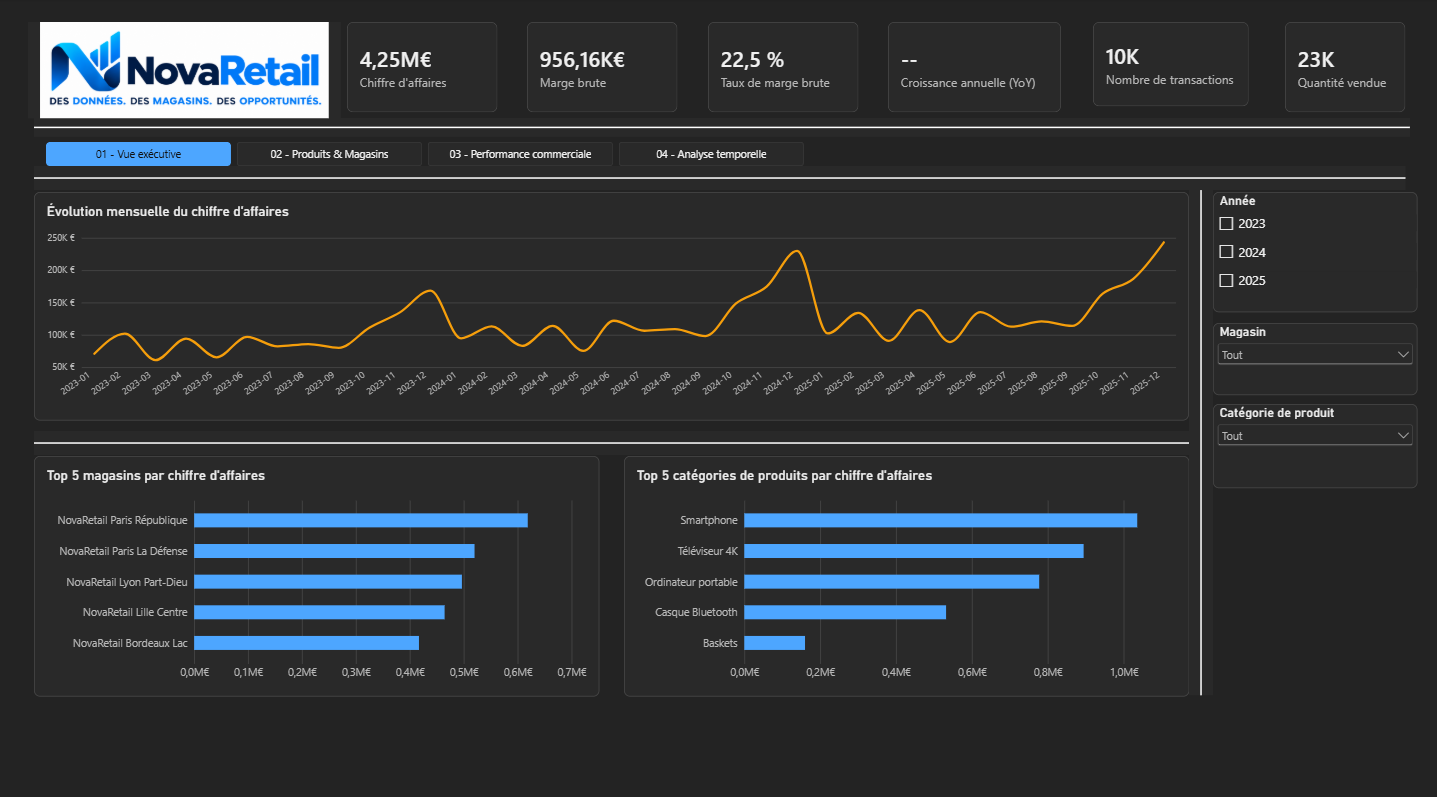

This screenshot's page, from the dashboard's own definition file:
{"tool":"powerbi","page":{"name":"01 - Vue exécutive","canvas":[1920,1080],"ordinal":0},"visuals":[{"type":"cardVisual","fields":{"Data":["_Mesures.Chiffre d'affaires"]},"box":[464,32,200,120],"z":0},{"type":"cardVisual","fields":{"Data":["_Mesures.Marge brute"]},"box":[704,32,200,120],"z":1000},{"type":"cardVisual","fields":{"Data":["_Mesures.Taux de marge brute"]},"box":[944,32,200,120],"z":2000},{"type":"cardVisual","fields":{"Data":["_Mesures.Nombre de transactions"]},"box":[1456,32,208,112],"z":3000},{"type":"cardVisual","fields":{"Data":["_Mesures.Quantité vendue"]},"box":[1712,32,160,120],"z":4000},{"type":"lineChart","title":"Évolution mensuelle du chiffre d''affaires","fields":{"Category":["dim_date.Annee_Mois"],"Y":["_Mesures.Chiffre d'affaires"]},"box":[48,257.8,1536,304],"z":5000},{"type":"barChart","title":"Top 5 magasins par chiffre d''affaires","fields":{"Category":["dim_magasin.nom_magasin"],"Y":["_Mesures.Chiffre d'affaires"]},"box":[48,609.8,752,320],"z":6000},{"type":"barChart","title":"Top 5 catégories de produits par chiffre d''affaires","fields":{"Category":["dim_produit.type_produit"],"Y":["_Mesures.Chiffre d'affaires"]},"box":[832,609.8,752,320],"z":7000},{"type":"slicer","fields":{"Values":["dim_date.annee"]},"box":[1616,257.8,272,160],"z":8000},{"type":"slicer","fields":{"Values":["dim_magasin.nom_magasin"]},"box":[1616,432.5,272,96],"z":9000},{"type":"slicer","fields":{"Values":["dim_produit.type_produit"]},"box":[1616,540.5,272,112],"z":10000},{"type":"cardVisual","fields":{"Data":["_Mesures.Croissance YoY - KPI"]},"box":[1184,32,230,120],"z":11000},{"type":"shape","box":[48,160,1830,25],"z":12000},{"type":"shape","box":[48,576,1552,32],"z":13000},{"type":"shape","box":[1584,256,32,672],"z":14000},{"type":"shape","box":[48,224,1824,32],"z":15000},{"type":"pageNavigator","box":[64,192,1008,32],"z":16000},{"type":"image","box":[40,32,416,128],"z":17000}]}

Visuals, with their boxes in screenshot pixels (x1, y1, x2, y2), scaled from the page's 1920x1080 canvas onto the 1437x797 screenshot:
cardVisual - _Mesures.Chiffre d'affaires: l=347, t=24, r=497, b=112
cardVisual - _Mesures.Marge brute: l=527, t=24, r=677, b=112
cardVisual - _Mesures.Taux de marge brute: l=707, t=24, r=856, b=112
cardVisual - _Mesures.Nombre de transactions: l=1090, t=24, r=1245, b=106
cardVisual - _Mesures.Quantité vendue: l=1281, t=24, r=1401, b=112
"Évolution mensuelle du chiffre d''affaires" lineChart: l=36, t=190, r=1186, b=415
"Top 5 magasins par chiffre d''affaires" barChart: l=36, t=450, r=599, b=686
"Top 5 catégories de produits par chiffre d''affaires" barChart: l=623, t=450, r=1186, b=686
slicer - dim_date.annee: l=1209, t=190, r=1413, b=308
slicer - dim_magasin.nom_magasin: l=1209, t=319, r=1413, b=390
slicer - dim_produit.type_produit: l=1209, t=399, r=1413, b=482
cardVisual - _Mesures.Croissance YoY - KPI: l=886, t=24, r=1058, b=112
shape: l=36, t=118, r=1406, b=137
shape: l=36, t=425, r=1198, b=449
shape: l=1186, t=189, r=1209, b=685
shape: l=36, t=165, r=1401, b=189
pageNavigator: l=48, t=142, r=802, b=165
image: l=30, t=24, r=341, b=118
